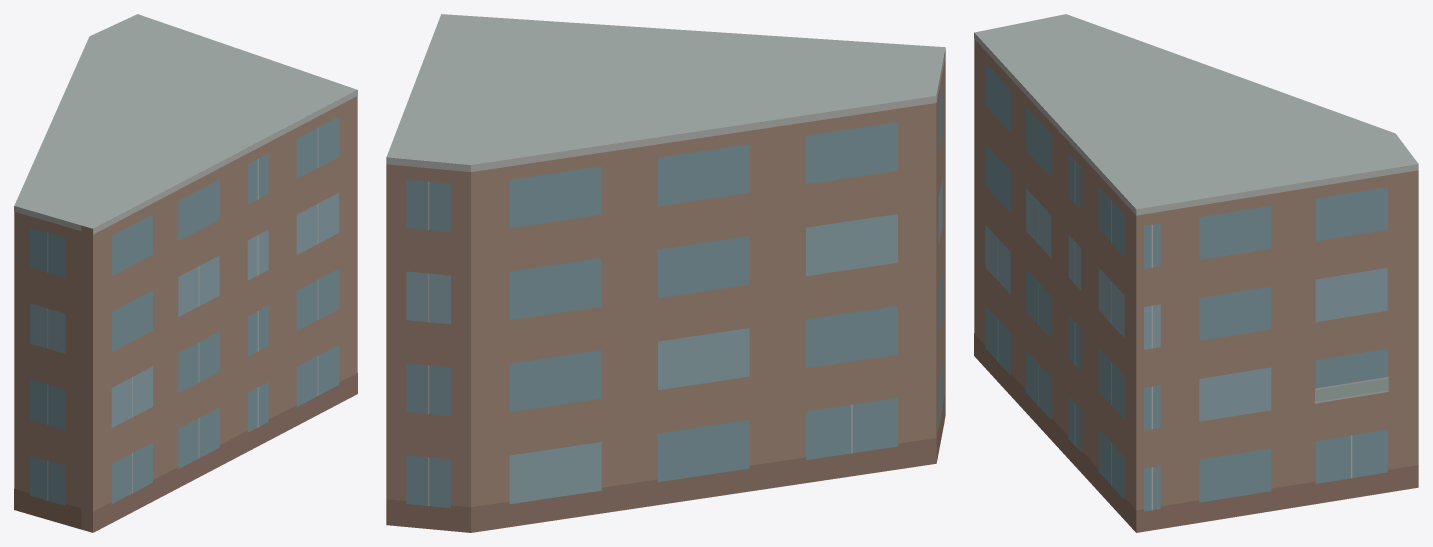
File: survey-upis-32745549.glb
3 views of the same model, side by side, from view 1: azimuth 30°, elevation 25°; view 2: azimuth 150°, elevation 25°; view 3: azimuth 270°, elevation 25° (orthographic). The views are drawn at different scales.
Visible parts, largest first — view 1: survey-upis-32745549.tmp; view 2: survey-upis-32745549.tmp; view 3: survey-upis-32745549.tmp.
Part boxes in pixels (left/top/right/bottom): survey-upis-32745549.tmp: left=14, top=14, right=357, bottom=532; survey-upis-32745549.tmp: left=386, top=14, right=945, bottom=532; survey-upis-32745549.tmp: left=974, top=14, right=1418, bottom=532.
Bounding box in the file's own units: 16.6 × 12.8 × 15.95.
